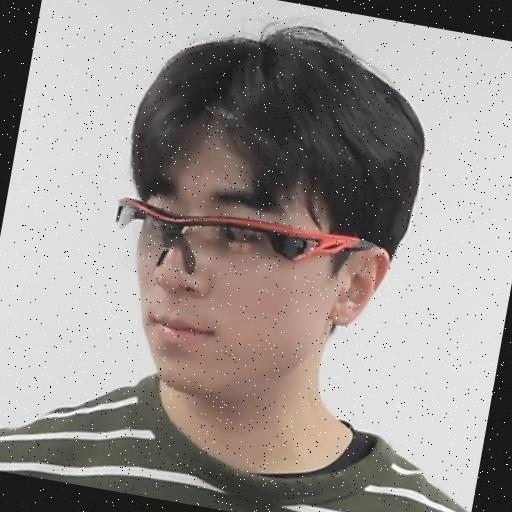glasses: (73, 0, 453, 419)
